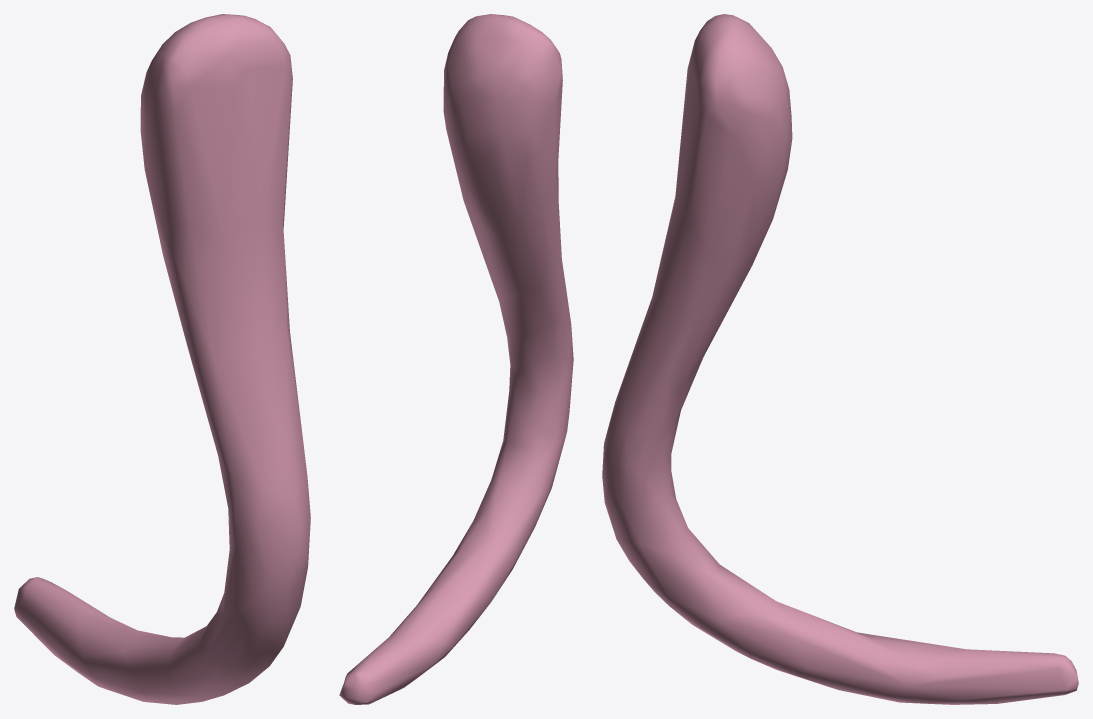
The picture shows the model from 3 angles, left to right: view 1: azimuth 30°, elevation 25°; view 2: azimuth 150°, elevation 25°; view 3: azimuth 270°, elevation 25°; orthographic projection. The views are drawn at different scales.
Visible parts, largest first — view 1: 尿道海绵体; view 2: 尿道海绵体; view 3: 尿道海绵体.
Part boxes in pixels (x1=…): 尿道海绵体: x1=14, y1=14, x2=310, y2=704; 尿道海绵体: x1=339, y1=14, x2=573, y2=704; 尿道海绵体: x1=602, y1=14, x2=1078, y2=704.
Size of the model in its own units: 0.0313 by 0.1652 by 0.105.
